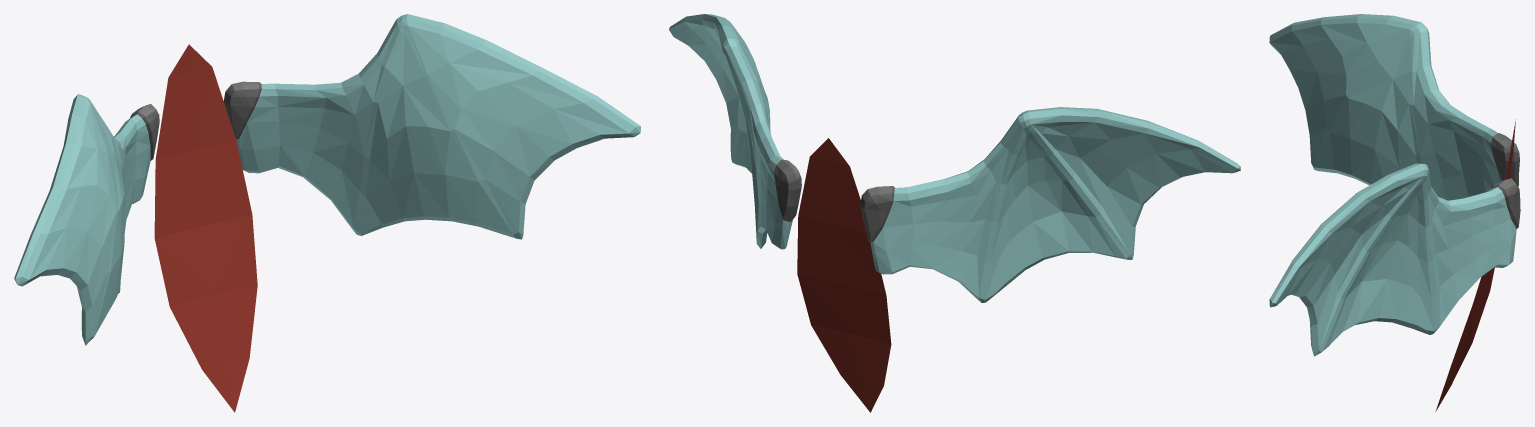
The model's file is CharSkyKid_Wing_MischiefBatWing.glb.
The picture shows the model from 3 angles, left to right: view 1: azimuth 30°, elevation 25°; view 2: azimuth 150°, elevation 25°; view 3: azimuth 270°, elevation 25°; orthographic projection. The views are drawn at different scales.
Visible parts, largest first — view 1: CharSkyKid_Wing_MischiefBatWing; view 2: CharSkyKid_Wing_MischiefBatWing; view 3: CharSkyKid_Wing_MischiefBatWing.
Part boxes in pixels (bbox=[...]): CharSkyKid_Wing_MischiefBatWing: bbox=[14, 14, 640, 412]; CharSkyKid_Wing_MischiefBatWing: bbox=[669, 14, 1240, 412]; CharSkyKid_Wing_MischiefBatWing: bbox=[1269, 14, 1520, 411].
Size of the model in its own units: 8.25 by 4.59 by 3.27.
Materials: 1 (1 with a texture image).
